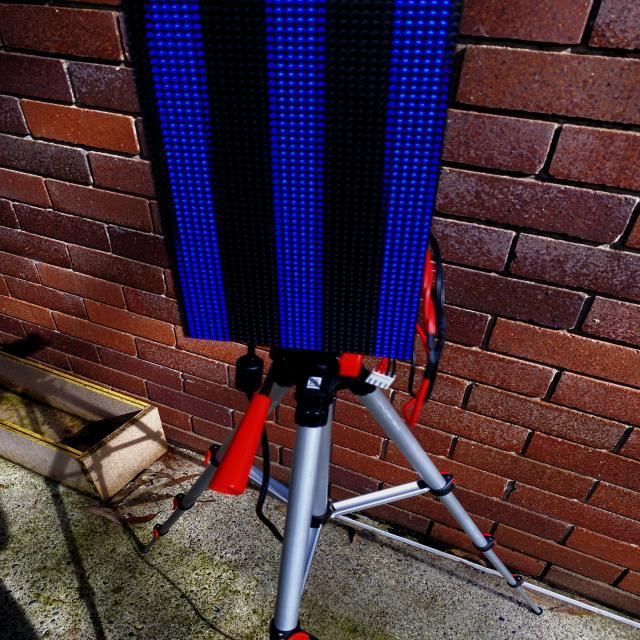matrix: (110, 0, 482, 386)
